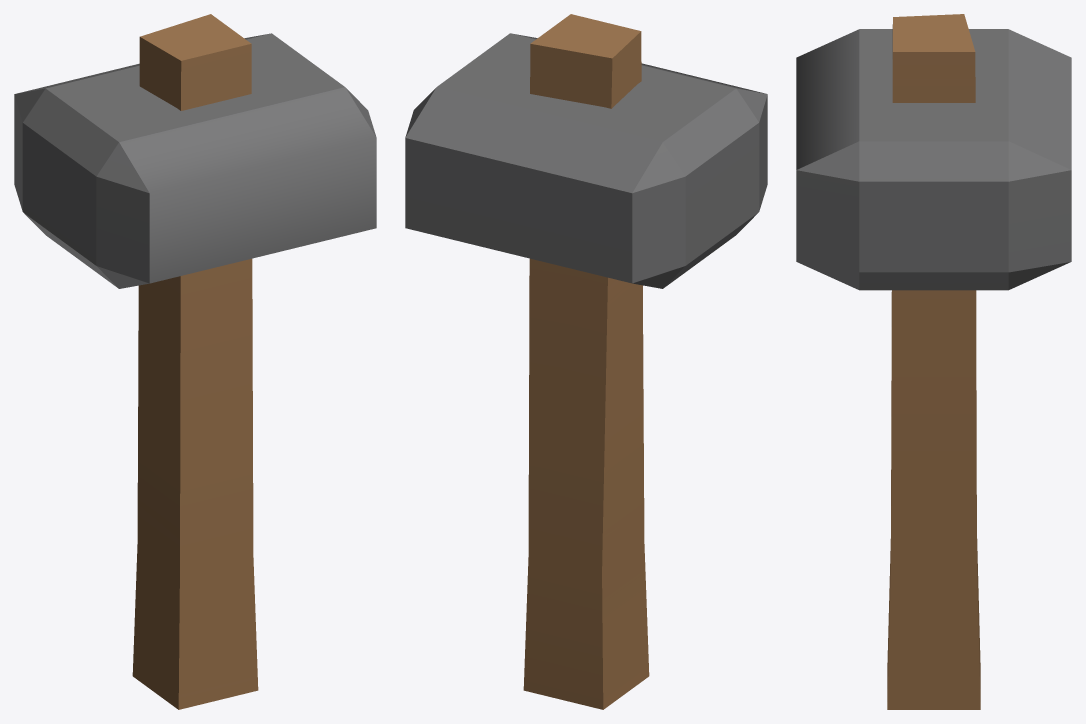
File: Hammer_A.fbx
3 renders of one model, left to right at view 1: azimuth 30°, elevation 25°; view 2: azimuth 150°, elevation 25°; view 3: azimuth 270°, elevation 25°, orthographic.
Parts seen in each view (by area): view 1: Hammer_A; view 2: Hammer_A; view 3: Hammer_A.
Boxes of the visible parts, x1,y1,x2,y2 form: Hammer_A: [14, 14, 376, 709]; Hammer_A: [405, 14, 767, 709]; Hammer_A: [796, 14, 1071, 709].
Size of the model in its own units: 18.86 by 42.82 by 16.29.
